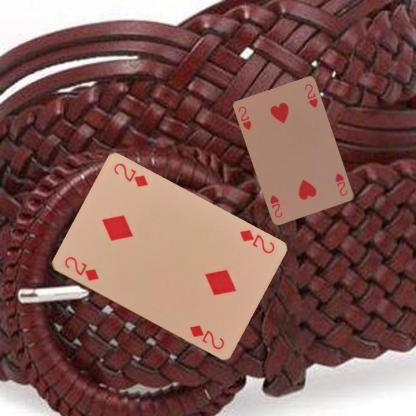2d: (236, 226, 276, 256), (61, 254, 100, 283)
2h: (235, 104, 254, 132), (333, 170, 349, 196)
